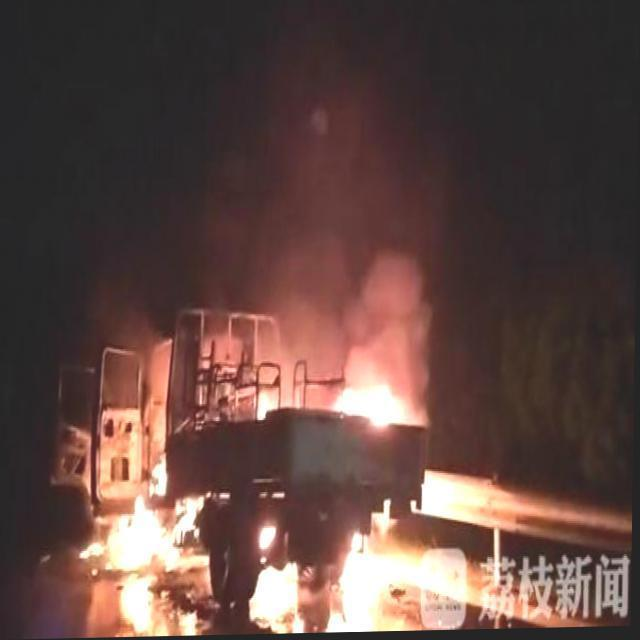Fire: (82, 447, 202, 574), (332, 357, 422, 452)
